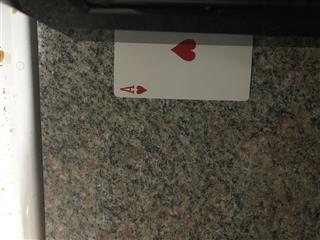AceOfHearts: (113, 28, 254, 100)
